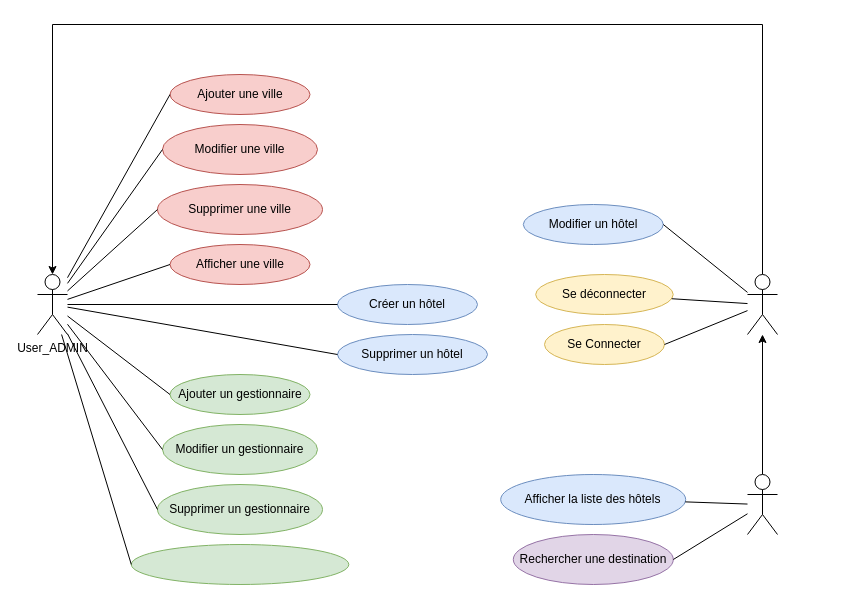
Image size: 841x602. Some labels were removed from this diagram. Here are the shapes that lost their labels. From the top down, the centre of each, then its label:
point 762,304: User_GESTIONNAIRE
point 762,504: Visiteur
point 239,564: Afficher la liste des gestionnaires
